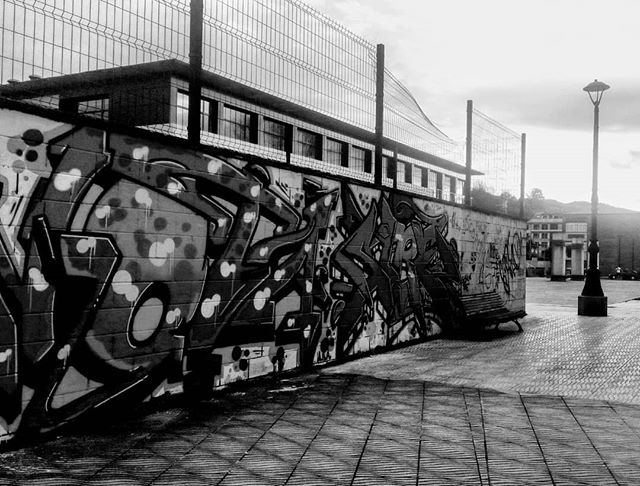bench: (453, 293, 525, 346)
graffiti: (1, 118, 471, 486)
light pole: (568, 74, 617, 319)
sky: (223, 1, 623, 196)
